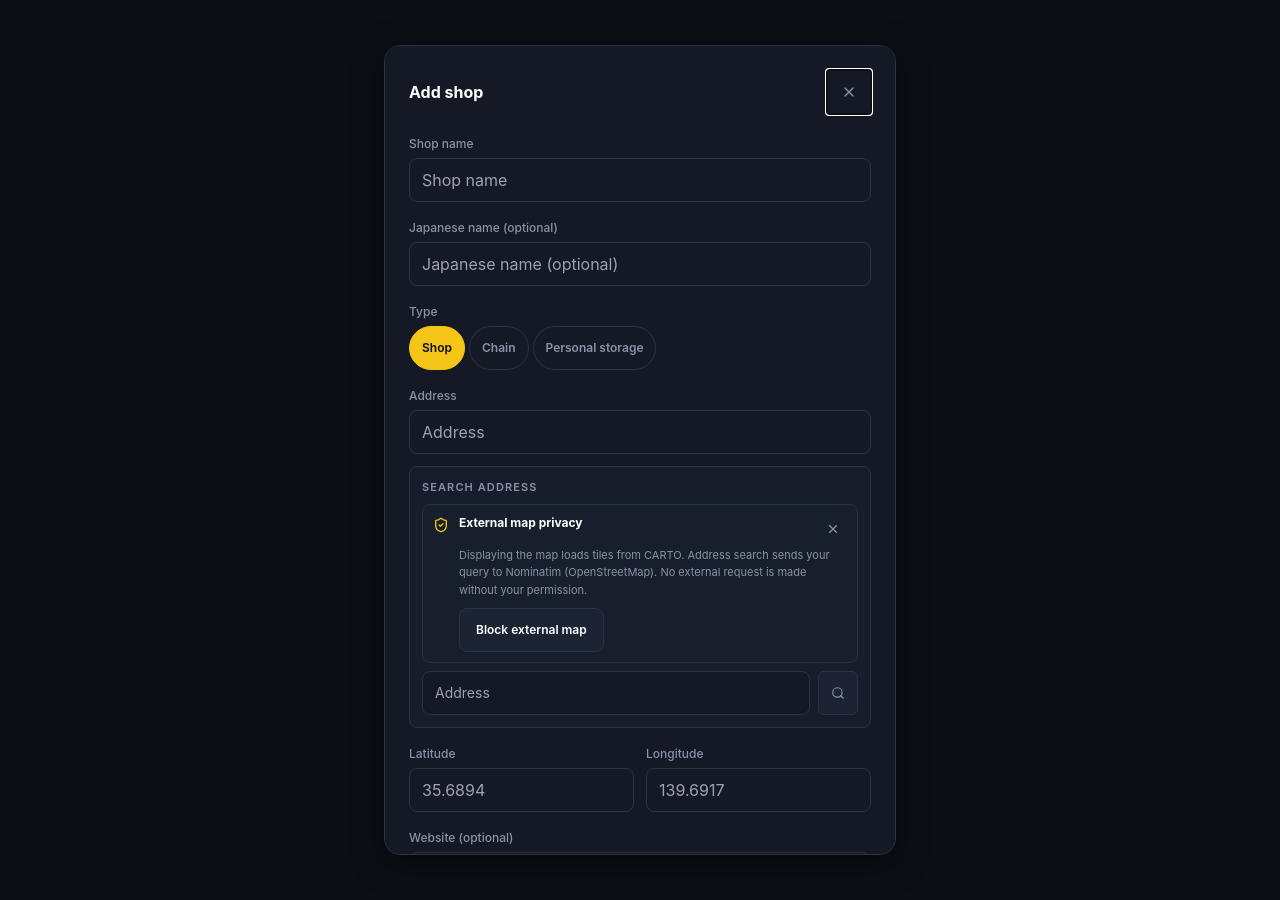
Test case: AddEditPlaceModal branches › shows the geocode-empty message when no result comes back
Type "void" into the field with placeholder "Address" below "External map privacy" at (616, 693), box [422,671,810,715]
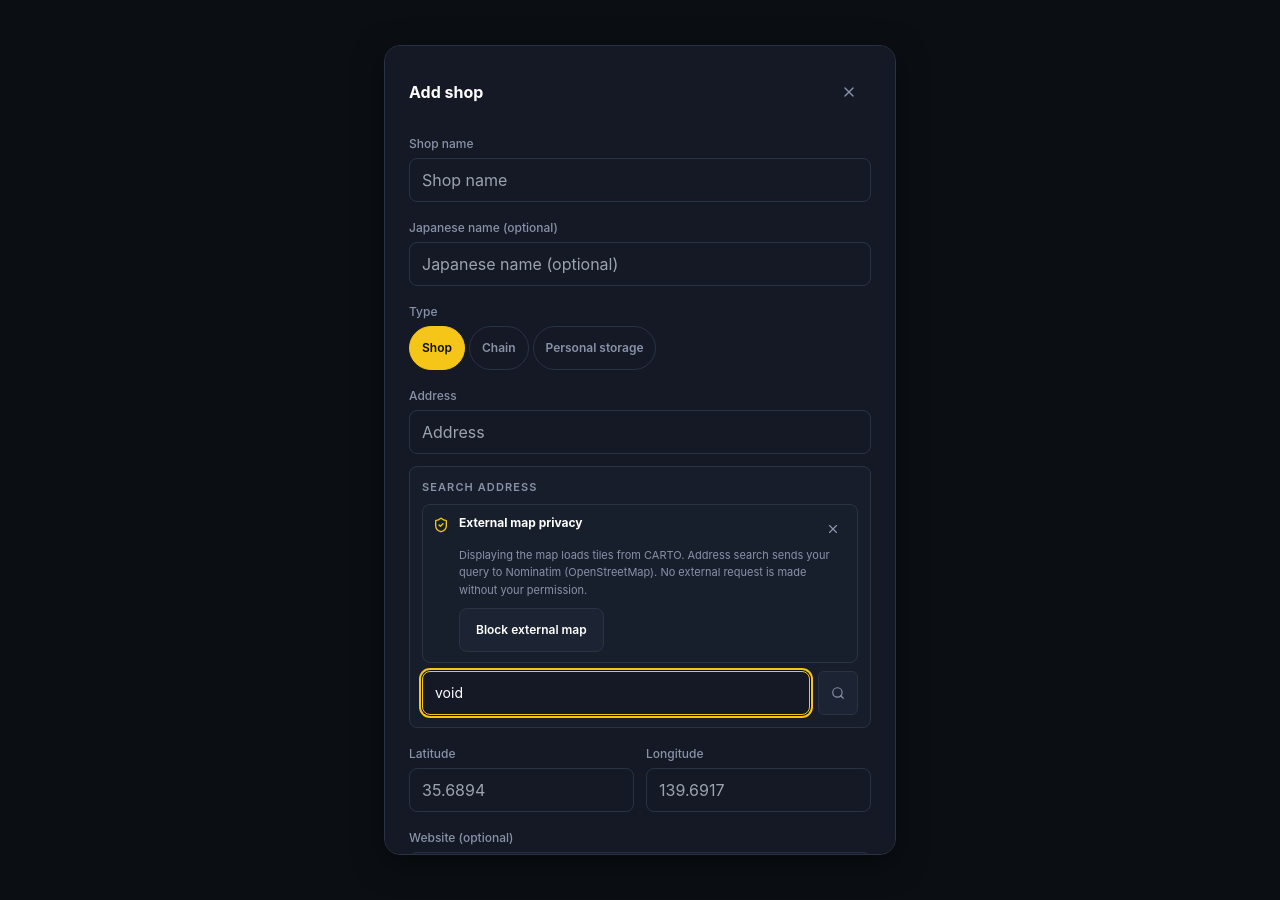
Click the button named "Search" at (838, 693), box [818,671,858,715]
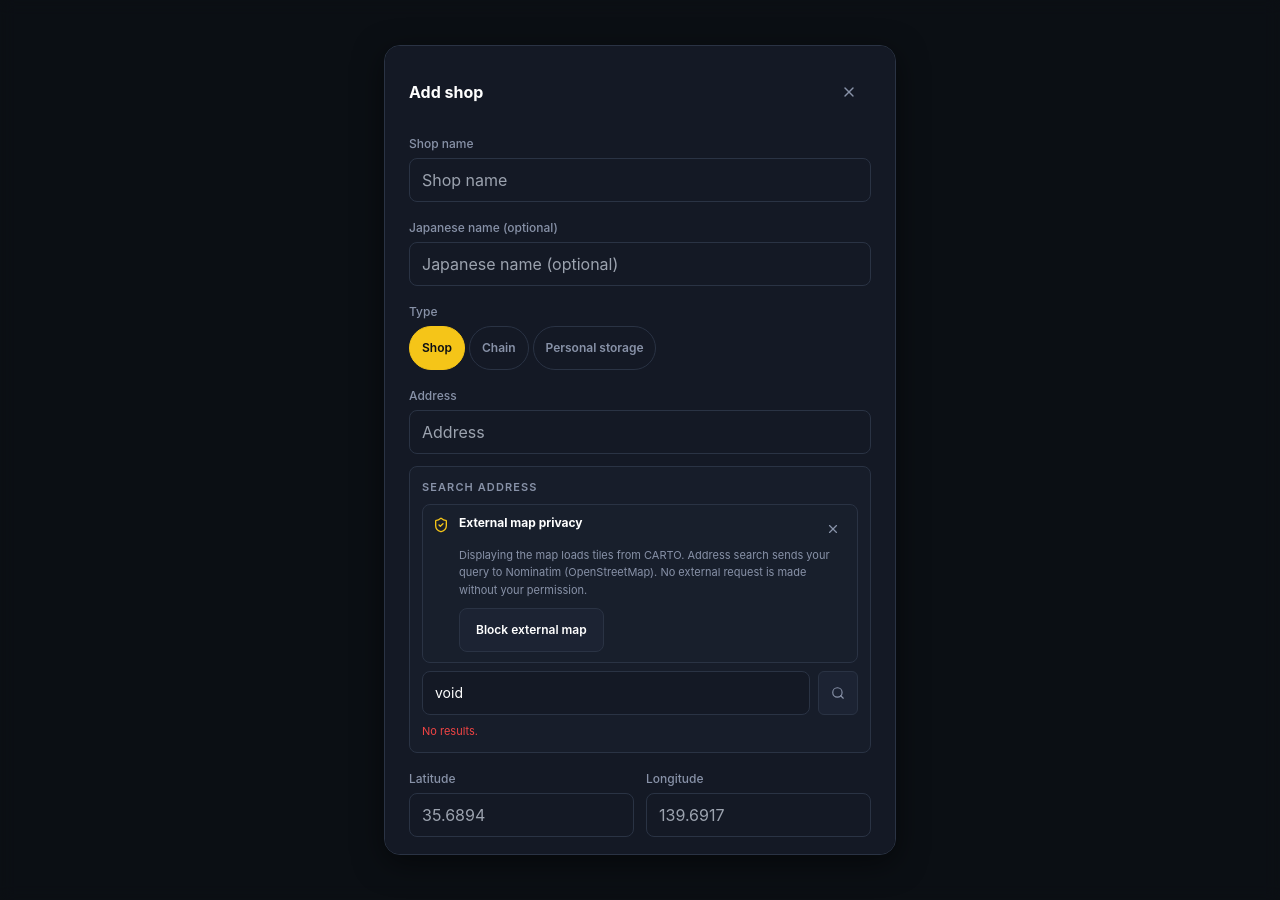
Result: the text "No results." is shown at [422,724,478,738]
